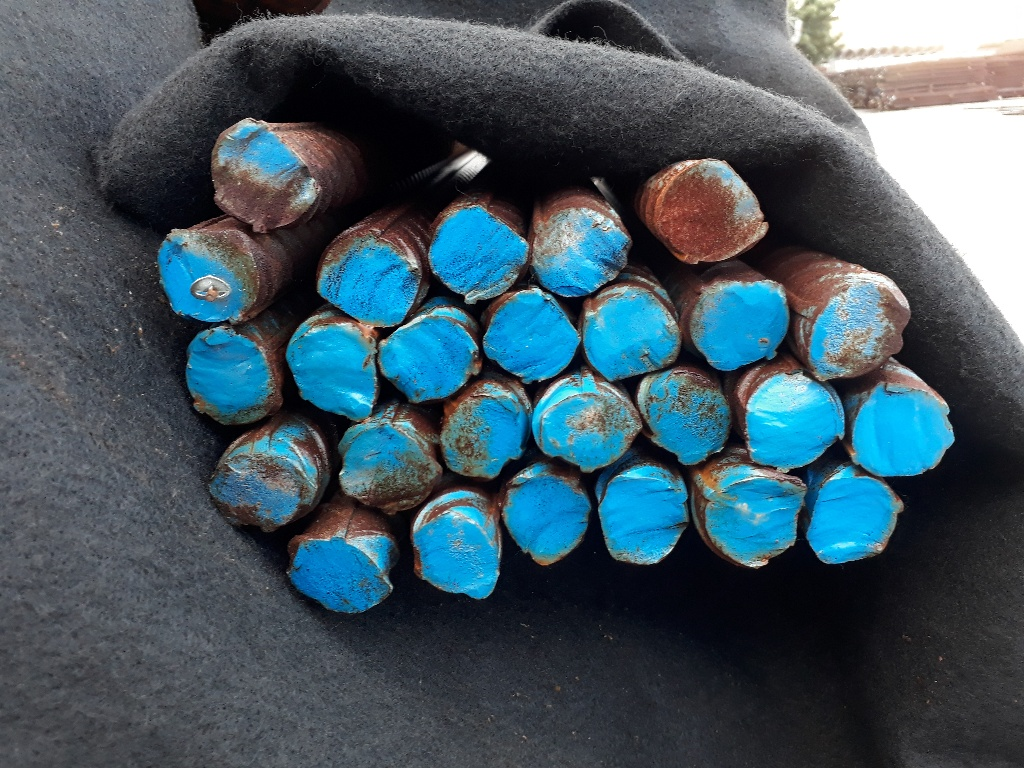dipstick: (207, 118, 319, 233), (656, 159, 770, 264), (803, 276, 913, 381), (530, 376, 642, 473), (151, 227, 261, 324), (849, 380, 955, 478), (745, 370, 846, 471), (428, 205, 530, 305), (581, 284, 684, 383), (687, 276, 794, 371), (501, 464, 597, 568), (480, 289, 586, 383), (338, 422, 445, 515), (318, 228, 418, 327), (806, 468, 907, 565), (438, 378, 532, 481), (634, 367, 733, 464), (529, 206, 632, 299), (599, 464, 691, 567), (703, 476, 801, 572), (182, 329, 280, 424), (287, 319, 375, 421), (378, 315, 475, 405), (206, 449, 307, 533), (290, 537, 395, 616)
